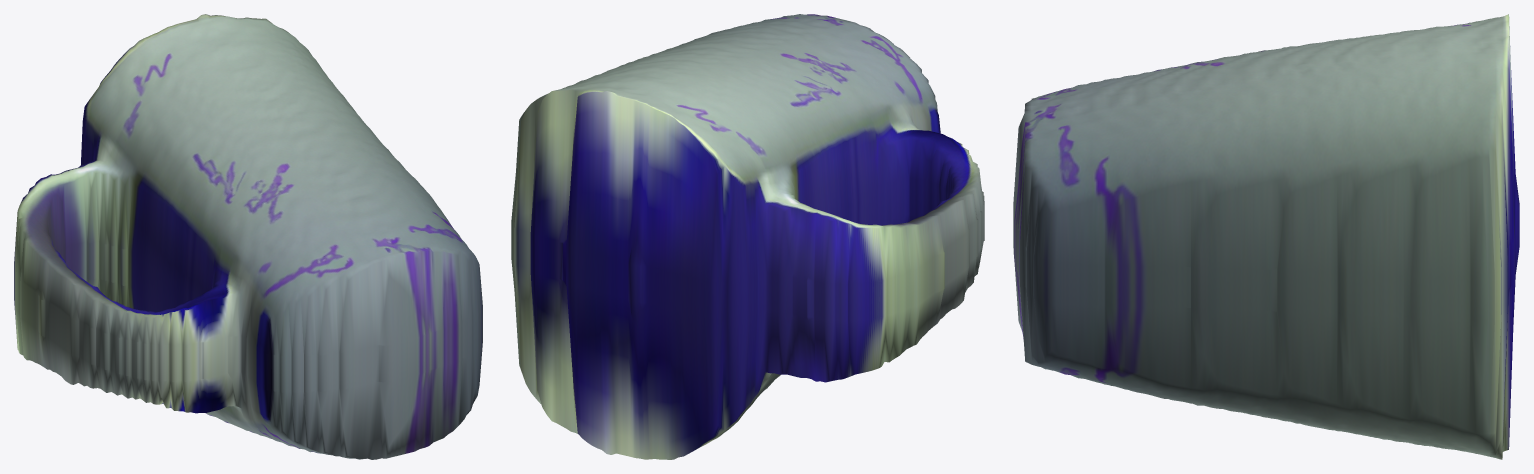
Rendered from mug_4_2.obj.
3 renders of one model, left to right at view 1: azimuth 30°, elevation 25°; view 2: azimuth 150°, elevation 25°; view 3: azimuth 270°, elevation 25°, orthographic. The views are drawn at different scales.
Parts seen in each view (by area): view 1: Grid; view 2: Grid; view 3: Grid.
Boxes of the visible parts, <box> form: Grid: <box>14,14,482,459</box>; Grid: <box>511,14,984,459</box>; Grid: <box>1013,14,1519,459</box>.
Size of the model in its own units: 1.44 by 1.4 by 1.57.
